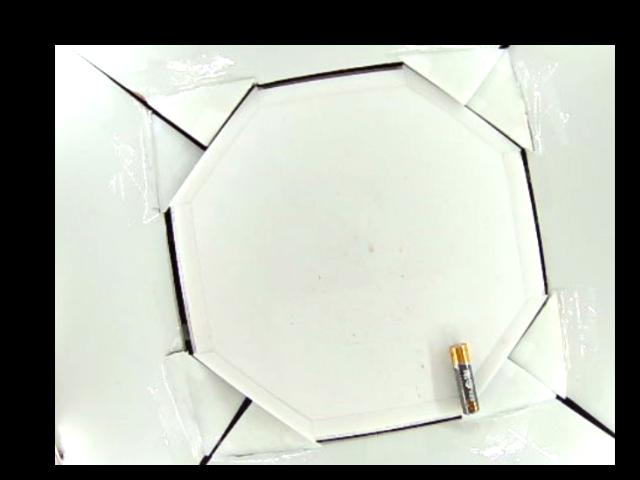Battery: (450, 342, 480, 415)
